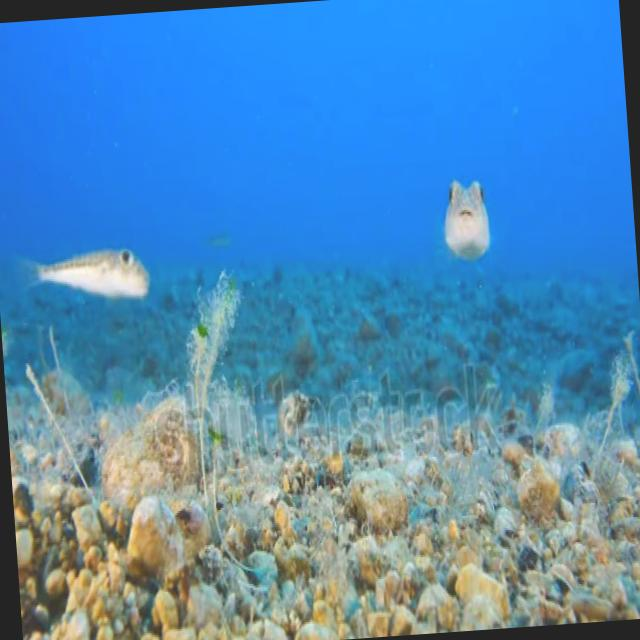Balon Baligi: (19, 237, 150, 310), (422, 154, 502, 272)
